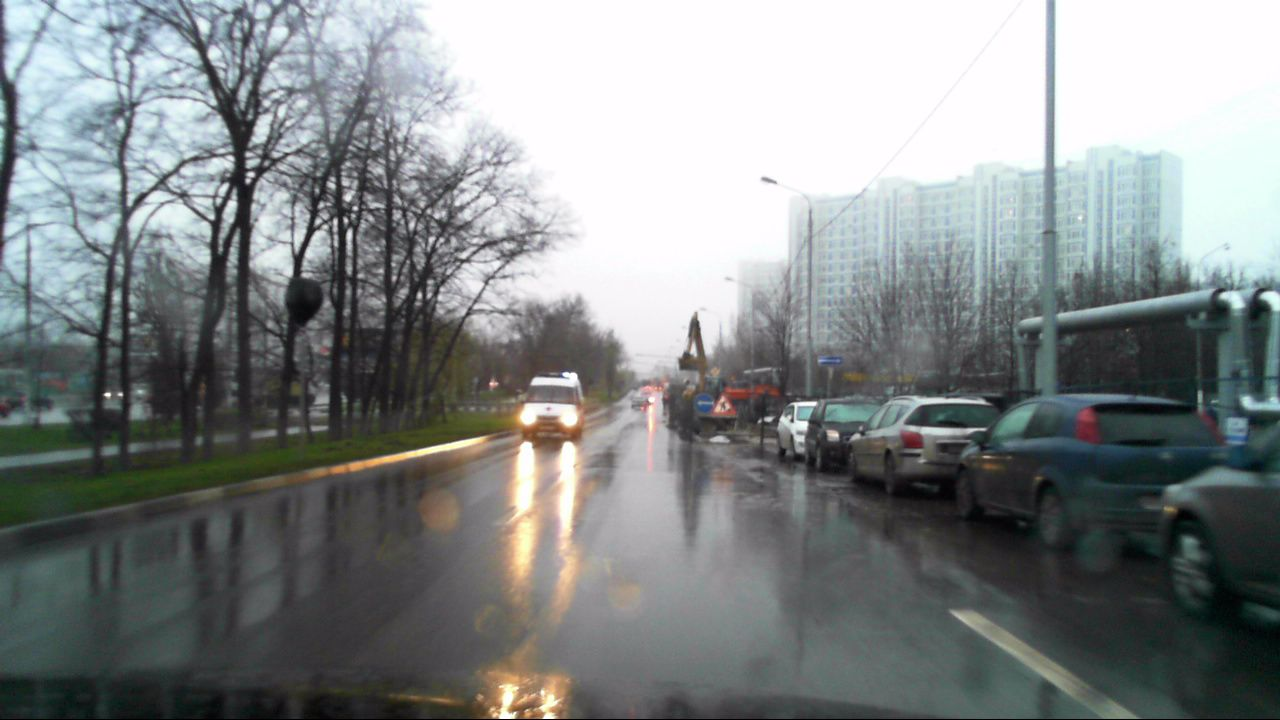One-Way Traffic: (817, 355, 844, 365)
Turn Left: (694, 393, 713, 413)
